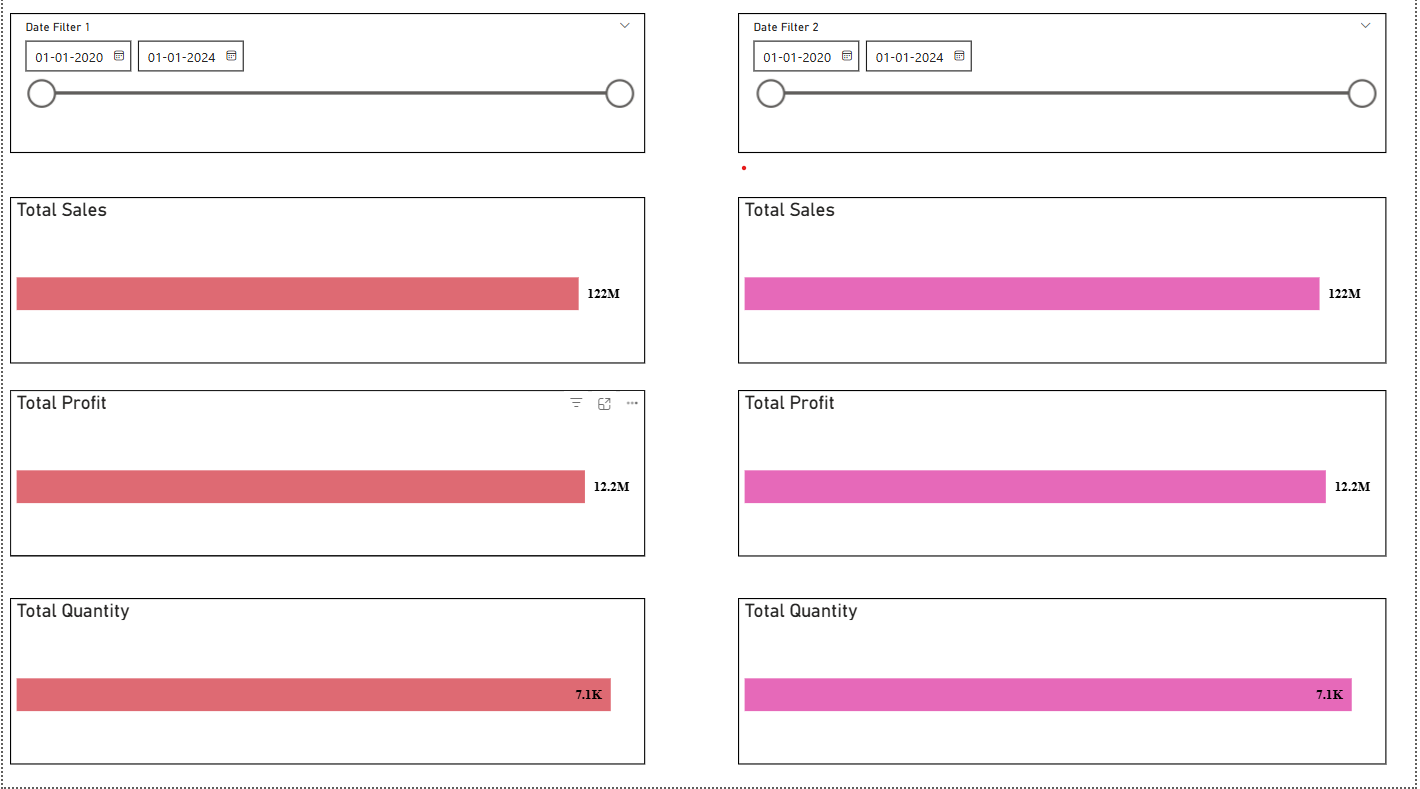

This screenshot's page, from the dashboard's own definition file:
{"tool":"powerbi","page":{"name":"Comparison Sales/Profit/Quantity 2","canvas":[1280,720],"ordinal":3},"visuals":[{"type":"slicer","fields":{"Values":["Fact Table.Date (dd/mm/yyyy)"]},"box":[6.3,18.1,575.8,127],"z":0},{"type":"slicer","fields":{"Values":["Fact Table.Date (dd/mm/yyyy)"]},"box":[666.5,18.1,587.6,127],"z":1000},{"type":"barChart","title":"Total Sales   ","fields":{"Y":["Sum(Fact Table.Net Sales   )"]},"box":[6.3,185,575.8,150.5],"z":2000},{"type":"barChart","title":"Total Profit","fields":{"Y":["Sum(Fact Table.Profit)"]},"box":[6.3,360,575.8,150.5],"z":3000},{"type":"barChart","title":"Total Quantity","fields":{"Y":["Sum(Fact Table.Units Sold)"]},"box":[6.3,548.6,575.8,150.5],"z":4000},{"type":"barChart","title":"Total Sales   ","fields":{"Y":["Sum(Fact Table.Net Sales   )"]},"box":[666.5,185,587.6,150.5],"z":5000},{"type":"barChart","title":"Total Profit","fields":{"Y":["Sum(Fact Table.Profit)"]},"box":[666.5,360,587.6,150.5],"z":6000},{"type":"barChart","title":"Total Quantity","fields":{"Y":["Sum(Fact Table.Units Sold)"]},"box":[666.5,548.6,587.6,150.5],"z":7000}]}

Visuals, with their boxes in screenshot pixels (x1, y1, x2, y2), scaled from the page's 1280x720 canvas onto the 1420x789 screenshot:
slicer - Fact Table.Date (dd/mm/yyyy): locate(7, 20, 646, 159)
slicer - Fact Table.Date (dd/mm/yyyy): locate(739, 20, 1391, 159)
"Total Sales   " barChart: locate(7, 203, 646, 368)
"Total Profit" barChart: locate(7, 395, 646, 559)
"Total Quantity" barChart: locate(7, 601, 646, 766)
"Total Sales   " barChart: locate(739, 203, 1391, 368)
"Total Profit" barChart: locate(739, 395, 1391, 559)
"Total Quantity" barChart: locate(739, 601, 1391, 766)
